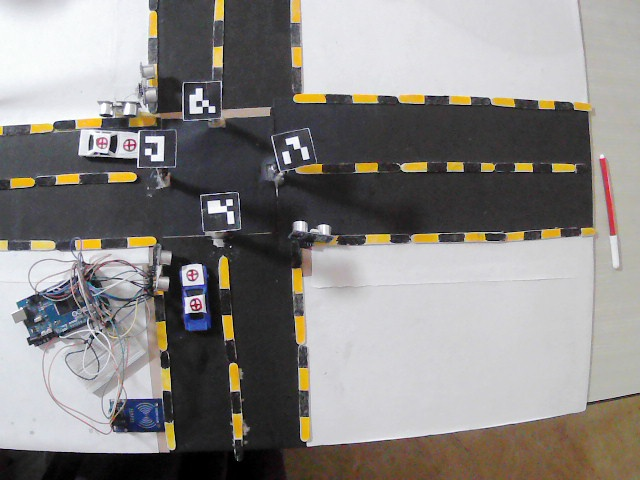aruco_marker: (272, 127, 317, 172), (135, 127, 176, 171), (180, 80, 225, 120), (201, 192, 239, 230)
emergency_vehicle: (179, 263, 213, 332), (77, 127, 139, 161)
uno_breadboard: (9, 266, 111, 348), (59, 318, 147, 395), (105, 396, 166, 436), (287, 219, 336, 249), (150, 245, 173, 292), (137, 63, 159, 106), (95, 98, 141, 118)
